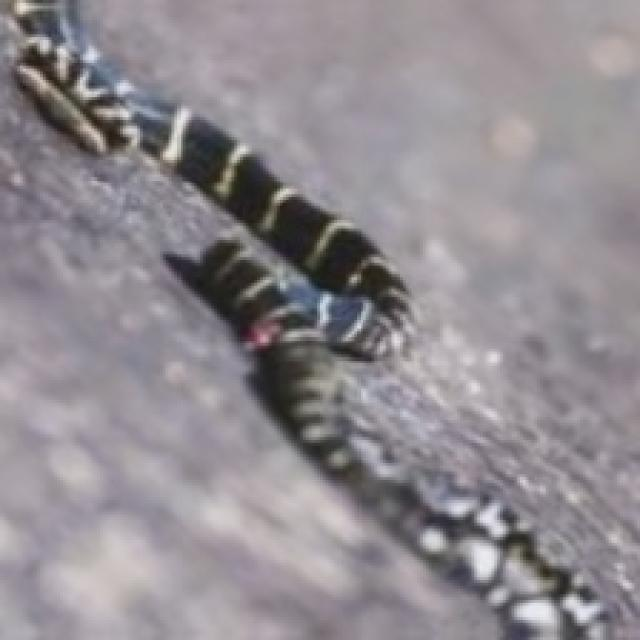king cobra: (97, 0, 637, 617), (0, 23, 497, 637)
